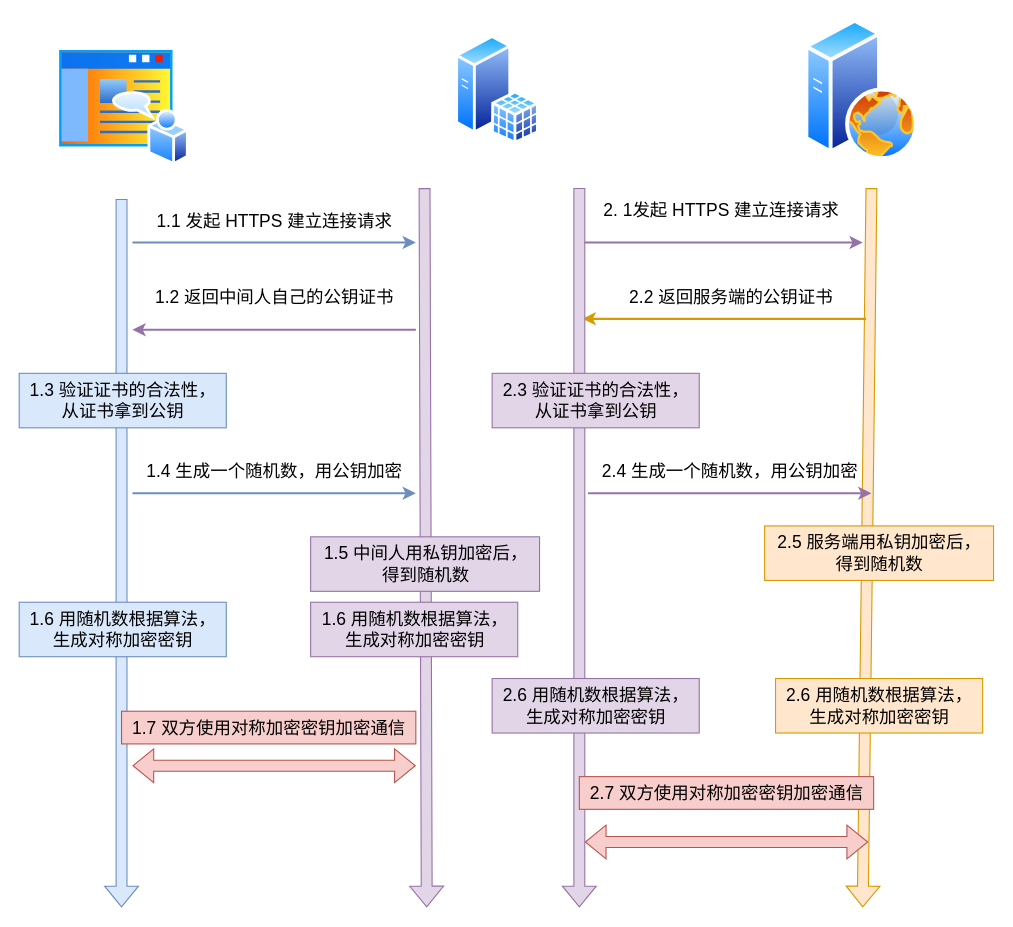
This 1013x927 diagram has some shape labels left out. Each missing label, with the box of its shape:
中间人服务器: (455, 35, 539, 144)
客户端: (56, 46, 189, 166)
服务端: (804, 19, 918, 160)
